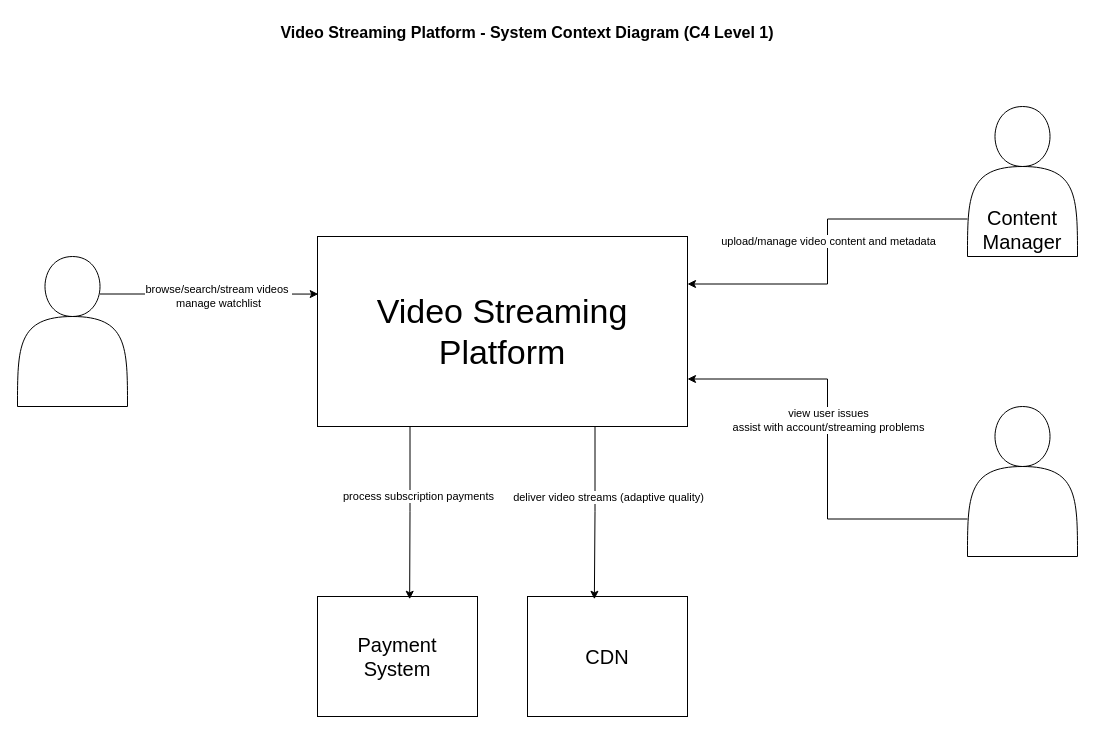
Image size: 1095x734. Some labels were removed from this diagram. Here are the shapes that lost their labels. From the top down, the centre of each, then its label:
the point at 72,331: Subscriber (User)
the point at 1022,481: Customer Support
